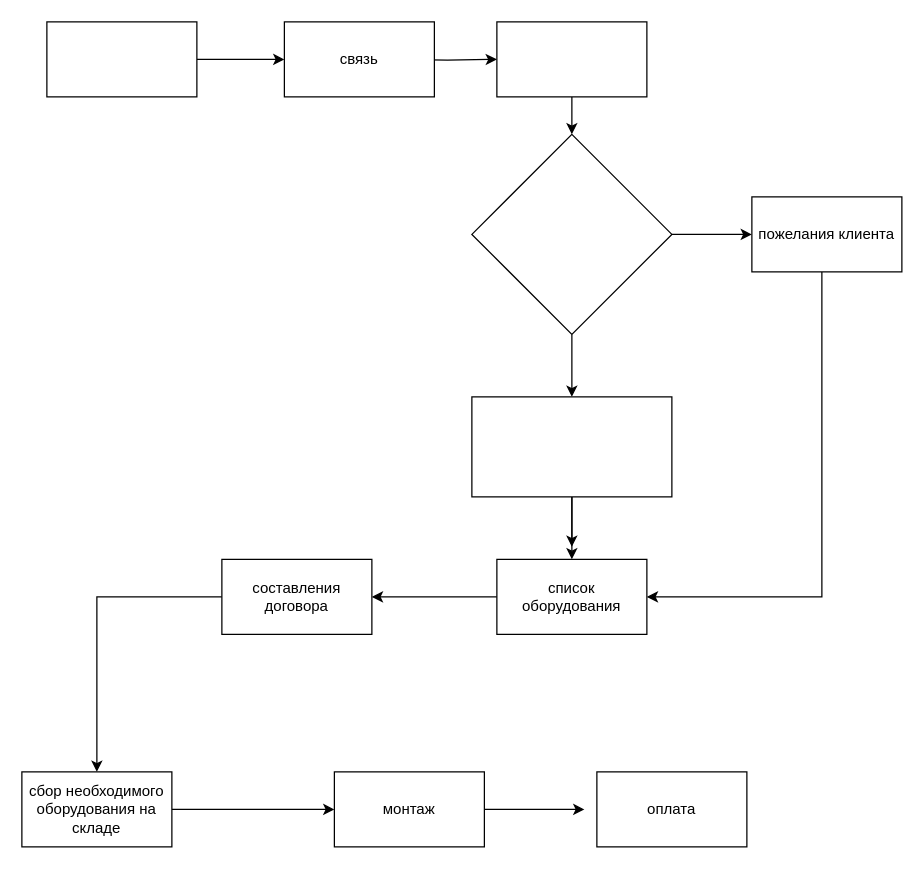
Image size: 924x869. Some labels were removed from this diagram. Each missing label, with the centre of its shape:
администратор: pixel 571 59
выезд мастера для оценки помещения и типов работ: pixel 571 446
договорённость о времени , месте и типов работ: pixel 571 233
клиент: pixel 121 59
